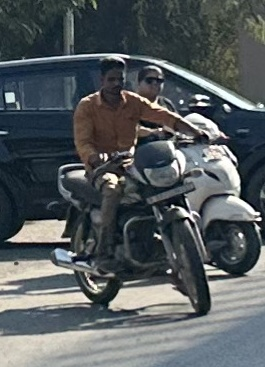BikeWithRider: (42, 49, 220, 319), (125, 57, 265, 278)
NoHelmet: (92, 51, 131, 99), (131, 60, 170, 102)
